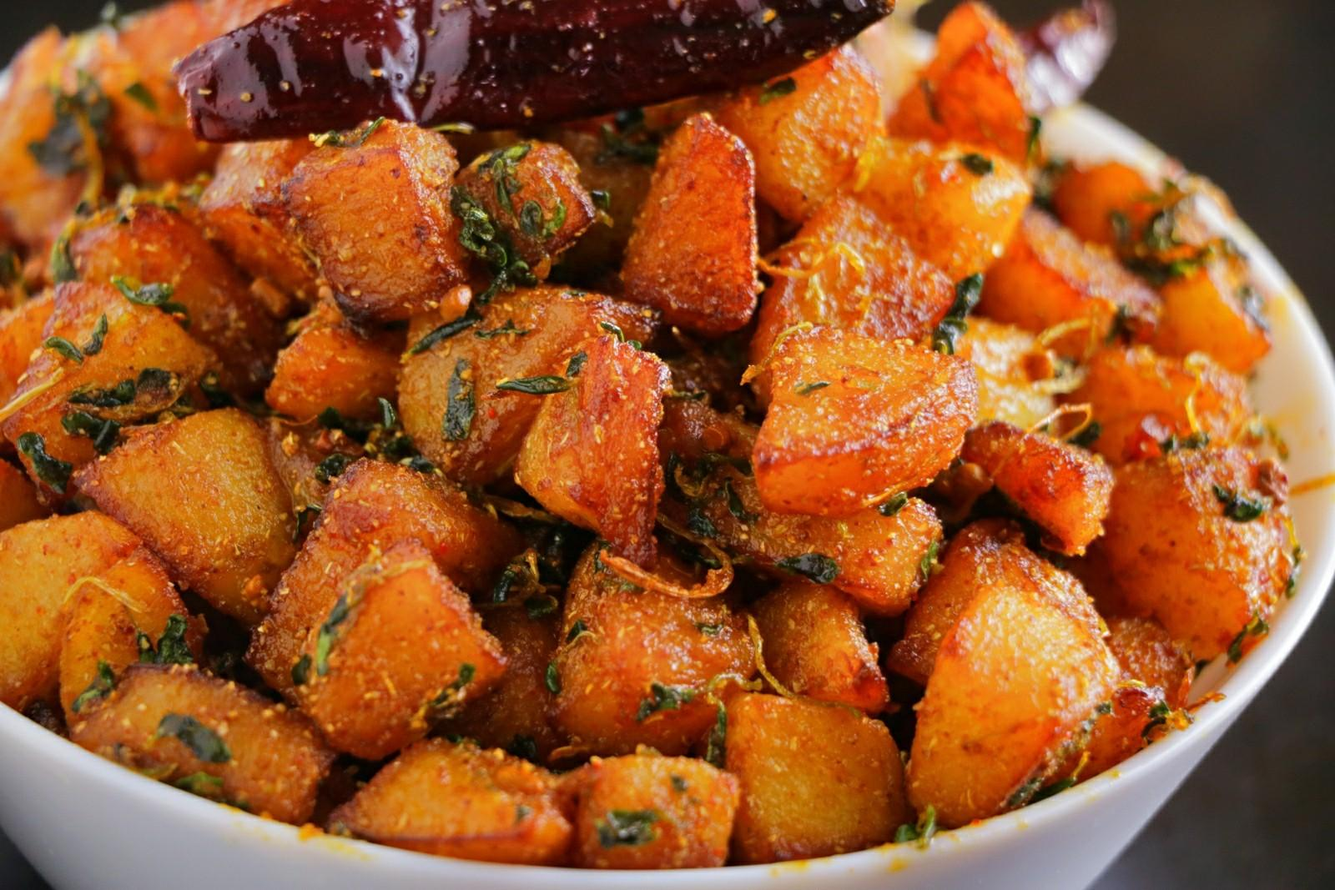AlooMasala: (0, 7, 1296, 867)
